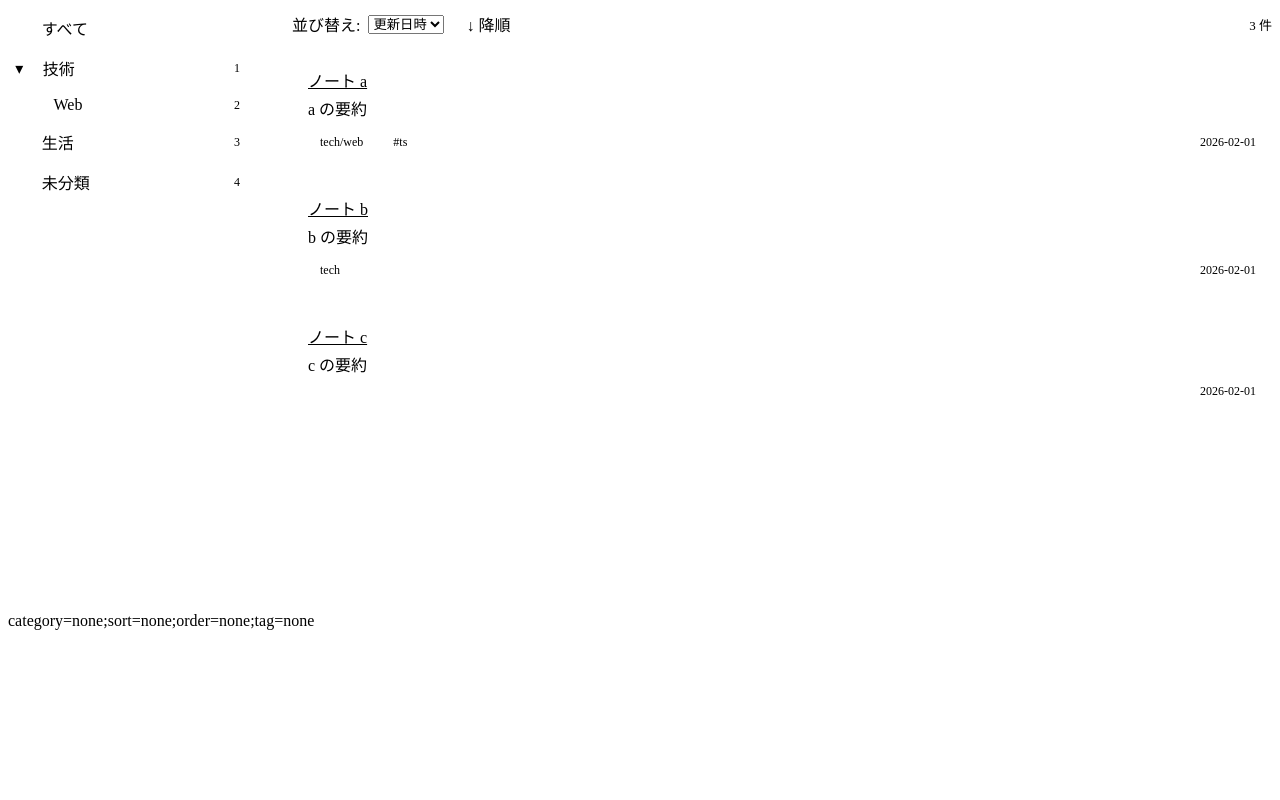
Scenario: NoteList — ソート切替 › ソート種別と並び順の変更が URL クエリに反映される(既定 updated / desc)
The width and height of the screenshot is (1280, 800).
Select "タイトル" in the dropdown named "並び替え": (406, 24) [368,14,444,34]
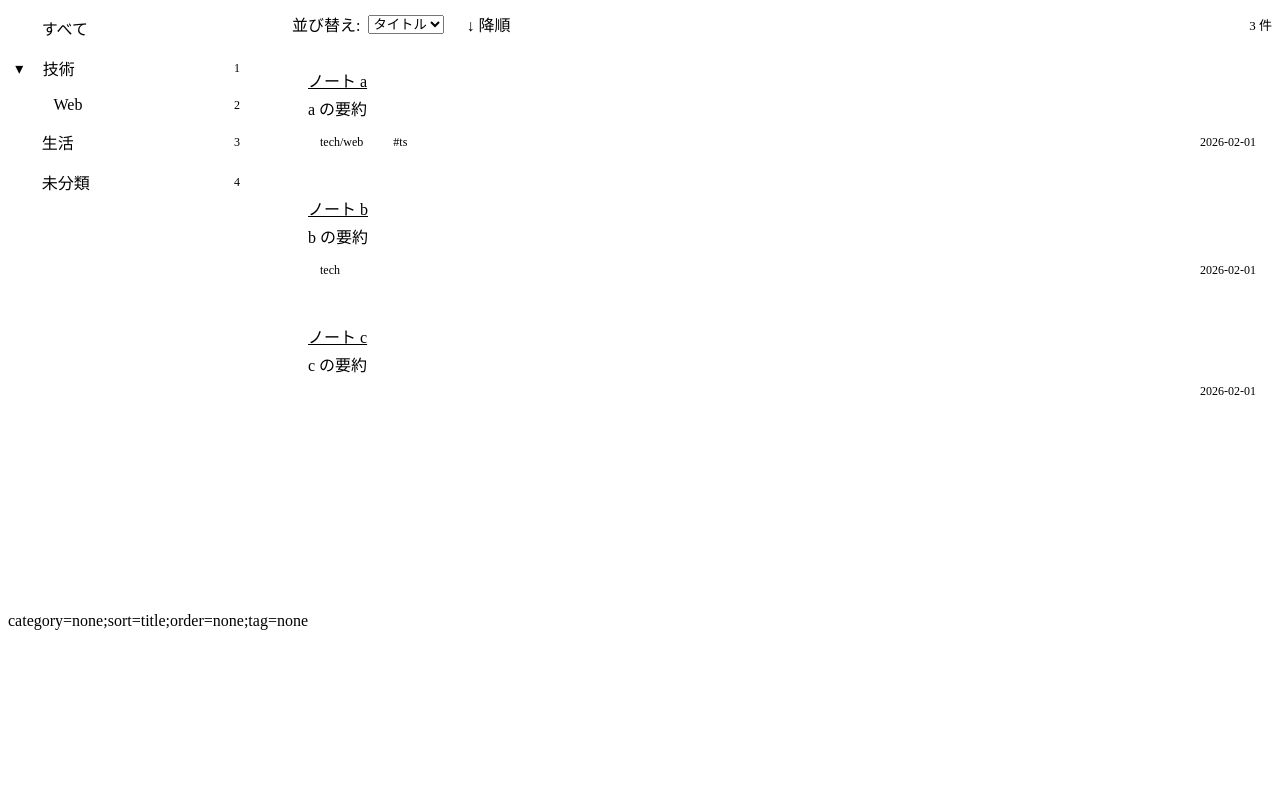
Result: the text with test id "probe" shows "sort=title" at [8,612,308,629]
Click the button "↓ 降順": (488, 24) [452,8,524,40]
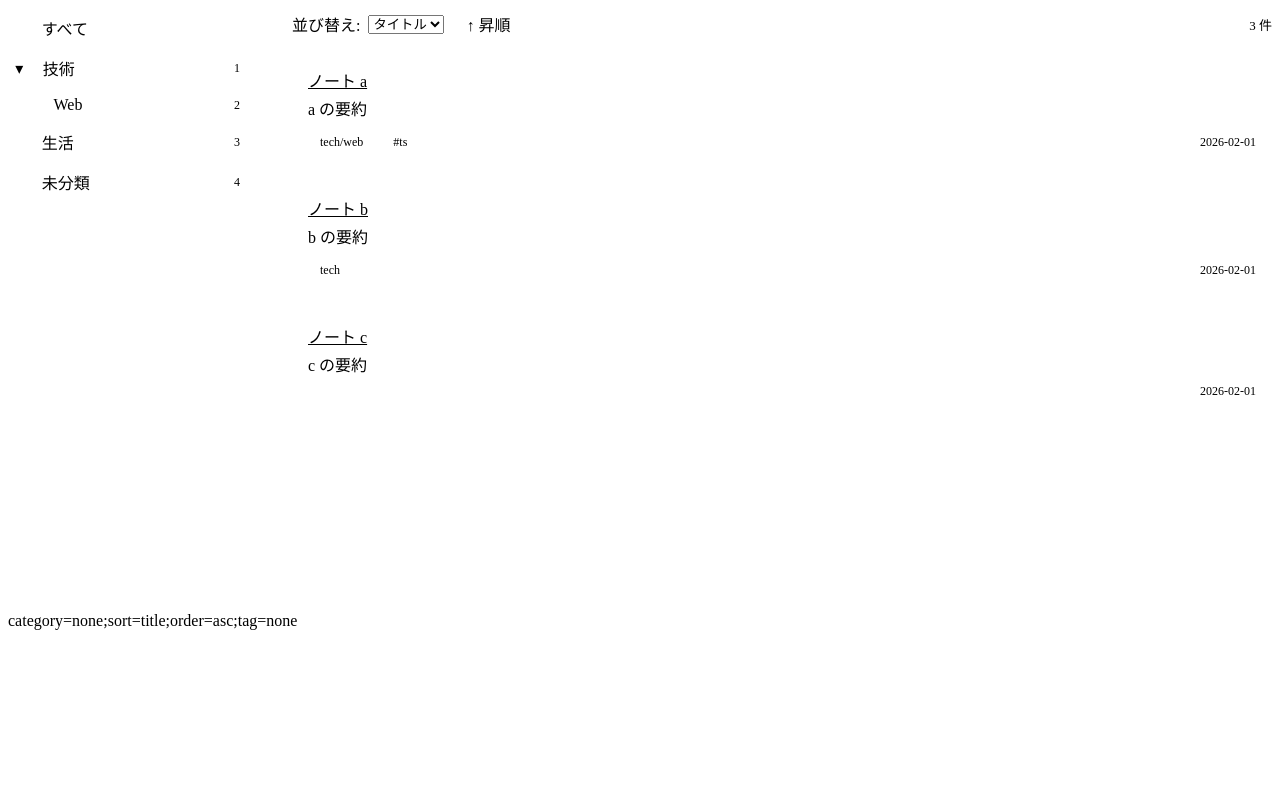
Result: the text with test id "probe" shows "order=asc" at [8,612,297,629]
